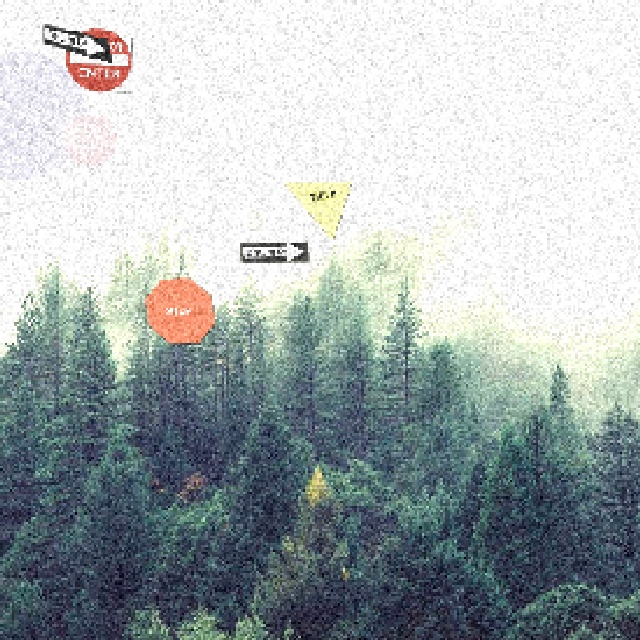DO_NOT_ENTER: (61, 22, 132, 92)
ONE_WAY_ right: (40, 21, 111, 62), (237, 239, 308, 262)
STOP: (143, 275, 214, 343)
YIELD: (280, 179, 351, 240)
